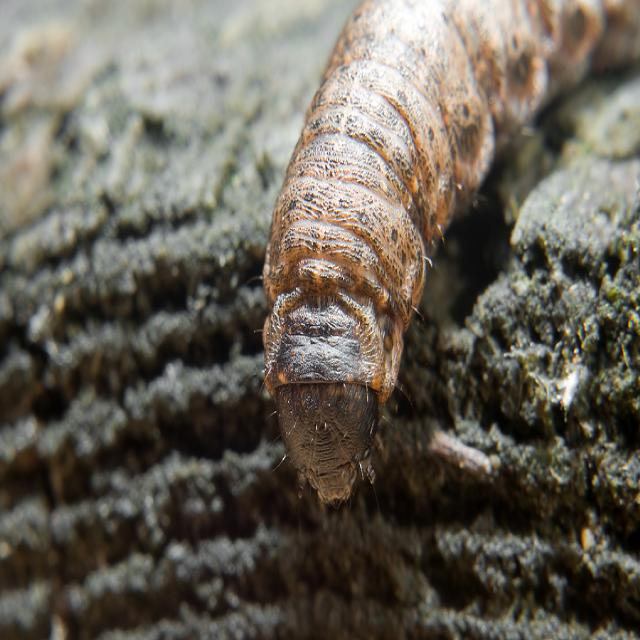Cutworm: (257, 4, 632, 520)
